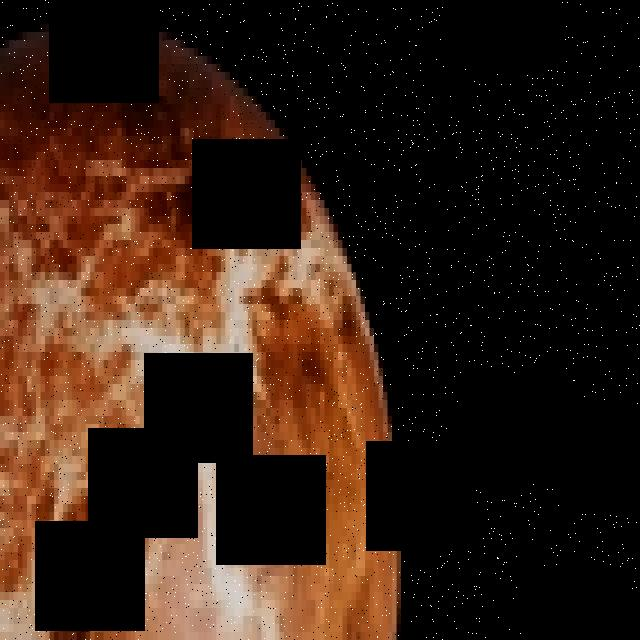Venus: (0, 16, 406, 640)
